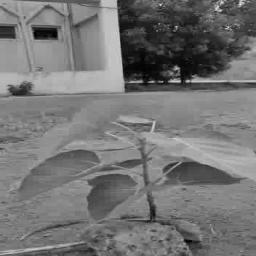LEAVS: (9, 96, 255, 220)
